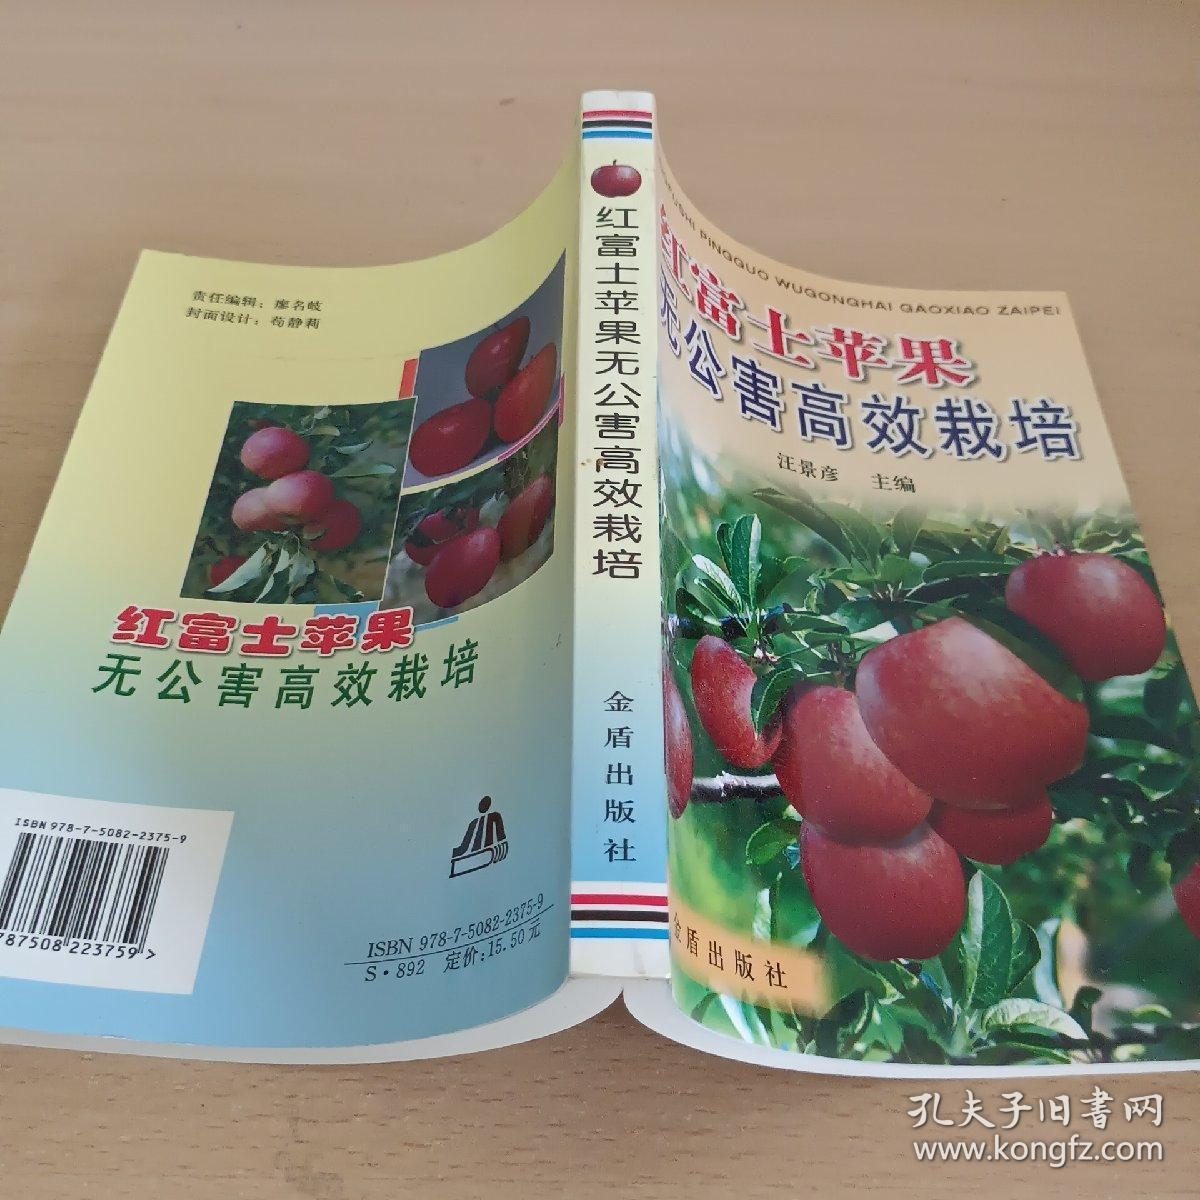apple: (852, 609, 1095, 808), (770, 684, 934, 842), (791, 823, 968, 963), (1005, 547, 1164, 682), (686, 635, 786, 771), (463, 322, 535, 400), (255, 470, 334, 532)
